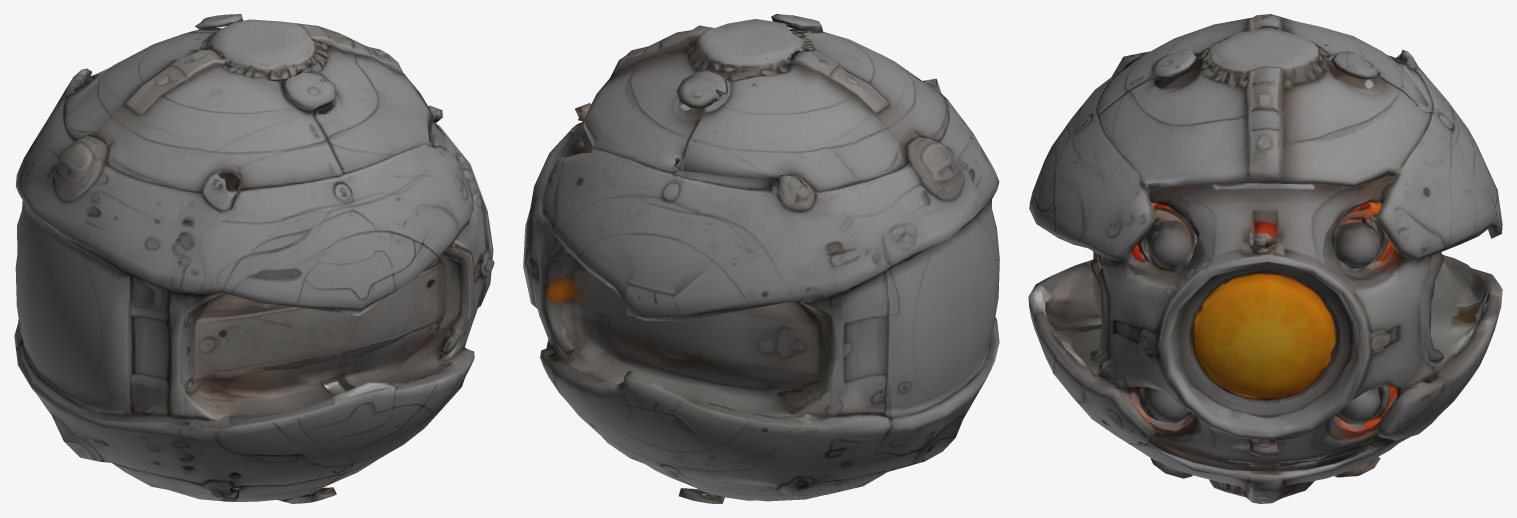
File: BallEnemy.fbx
3 renders of one model, left to right at view 1: azimuth 30°, elevation 25°; view 2: azimuth 150°, elevation 25°; view 3: azimuth 270°, elevation 25°, orthographic.
Visible parts, largest first — view 1: tripo_node_5376b99d; view 2: tripo_node_5376b99d; view 3: tripo_node_5376b99d.
Boxes of the visible parts, left/top/right/bottom form: tripo_node_5376b99d: left=14, top=14, right=494, bottom=503; tripo_node_5376b99d: left=523, top=14, right=999, bottom=503; tripo_node_5376b99d: left=1028, top=14, right=1502, bottom=503.
Size of the model in its own units: 0.9233 by 0.9945 by 0.9843.
Materials: 1 (1 with a texture image).
